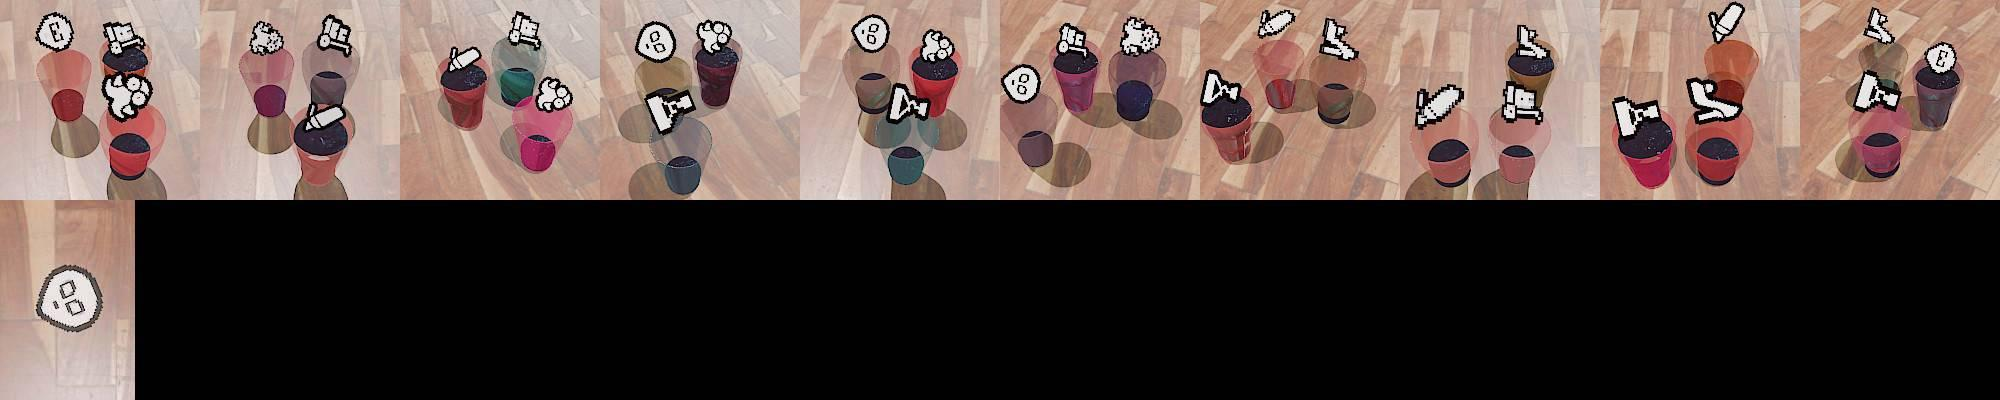icon: (33, 264, 105, 334), (1686, 75, 1742, 124), (644, 85, 698, 135), (101, 73, 154, 120), (1412, 83, 1463, 129), (1612, 96, 1663, 140), (1852, 70, 1902, 112), (634, 22, 679, 64), (1501, 79, 1542, 124), (885, 84, 931, 124), (1119, 15, 1161, 57), (1319, 17, 1358, 60), (1000, 64, 1041, 104), (34, 11, 74, 52), (1202, 68, 1242, 107), (1708, 3, 1745, 45), (852, 14, 890, 54), (102, 20, 143, 57), (318, 14, 353, 56), (534, 75, 573, 112), (302, 102, 348, 132), (918, 28, 957, 64), (1514, 24, 1550, 61), (249, 20, 284, 56), (696, 19, 733, 54), (508, 10, 541, 48), (1923, 42, 1958, 78), (1055, 22, 1089, 56), (444, 46, 482, 76), (1258, 8, 1296, 38), (1864, 6, 1894, 45)
